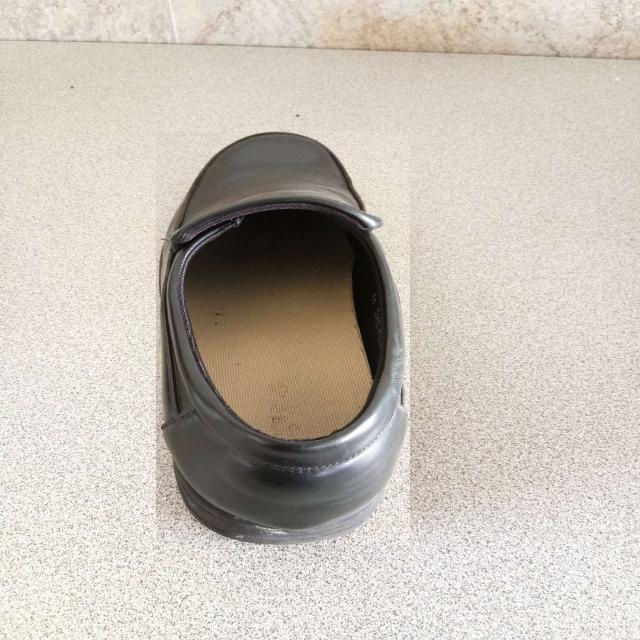shoe: (156, 131, 410, 545)
